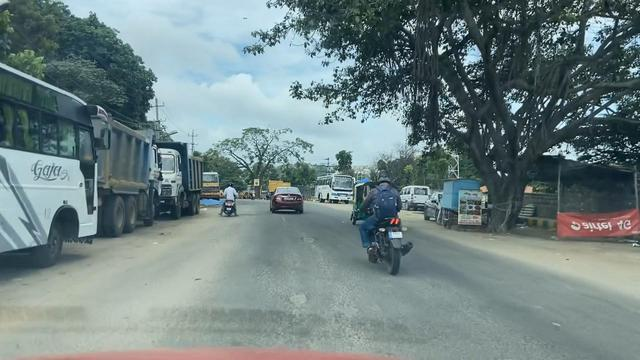HMV: (0, 54, 119, 292), (157, 133, 201, 225), (308, 163, 364, 207), (399, 177, 437, 220), (199, 166, 224, 205)
LMV: (347, 158, 437, 282), (264, 178, 313, 217), (216, 177, 249, 228)
RoadDamages: (268, 279, 327, 320), (292, 226, 336, 260)
